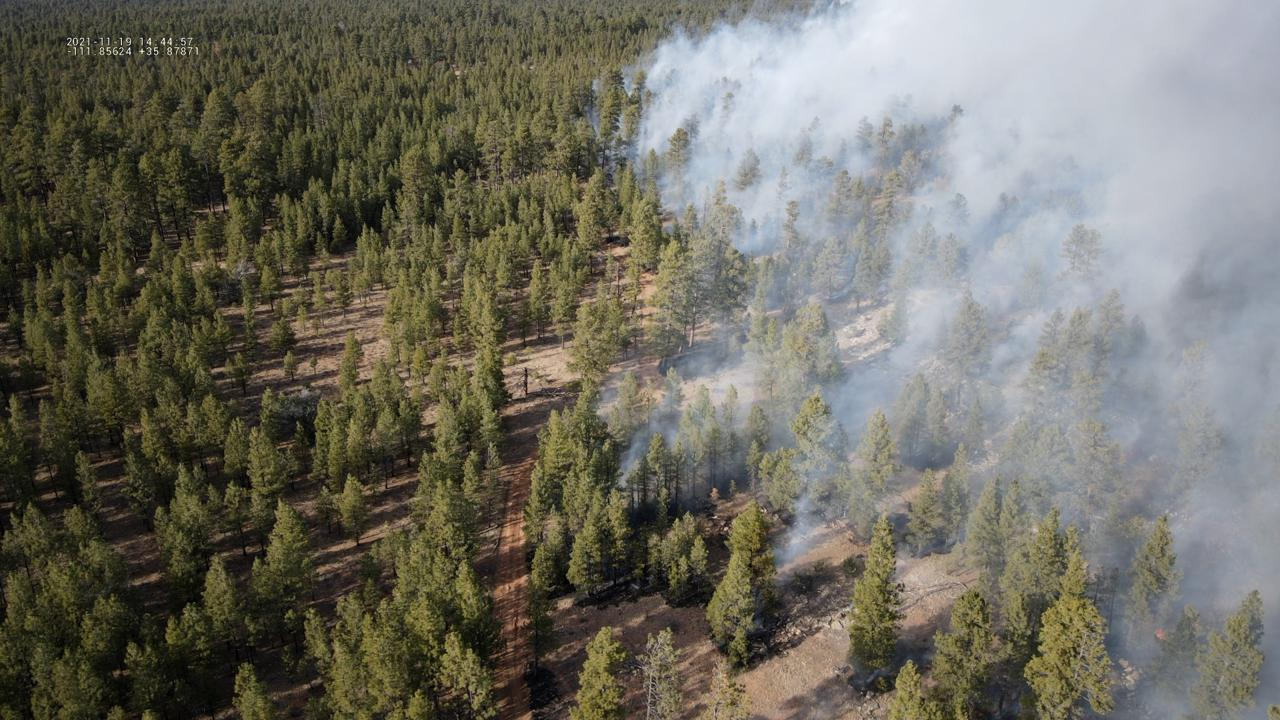fire: (1153, 627, 1166, 641)
smoke: (599, 0, 1280, 720)
